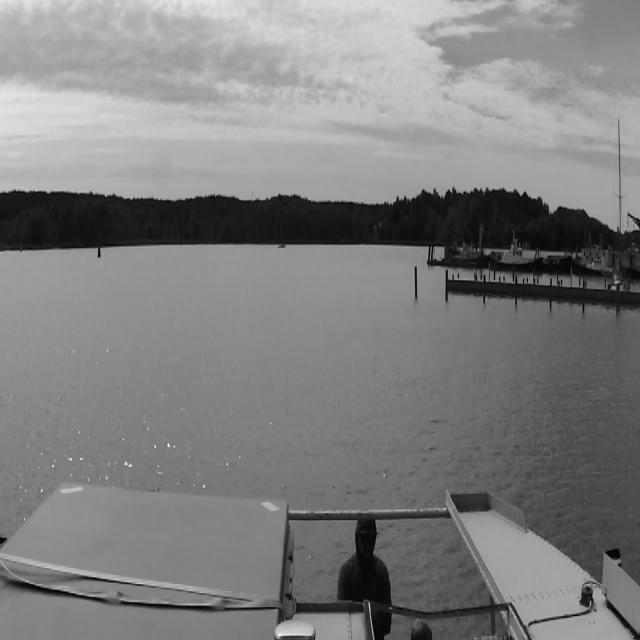ship: (428, 244, 488, 268), (490, 248, 546, 268), (580, 257, 620, 277)
